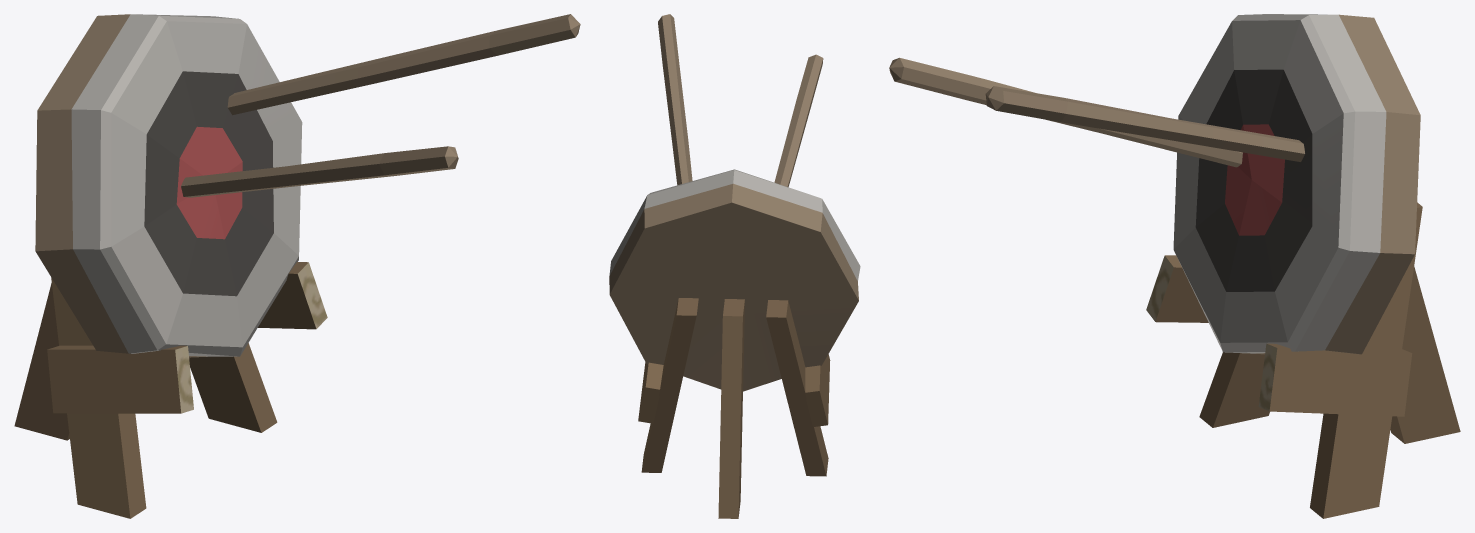
Rendered from targetPractice.fbx.
The picture shows the model from 3 angles, left to right: view 1: azimuth 30°, elevation 25°; view 2: azimuth 150°, elevation 25°; view 3: azimuth 270°, elevation 25°; orthographic projection. The views are drawn at different scales.
Visible parts, largest first — view 1: targetPractice; view 2: targetPractice; view 3: targetPractice.
Boxes of the visible parts, x1,y1,x2,y2 form: targetPractice: (14,14,580,518); targetPractice: (609,14,860,518); targetPractice: (889,14,1460,518).
Bounding box in the file's own units: 1.96 × 2.22 × 2.32.
